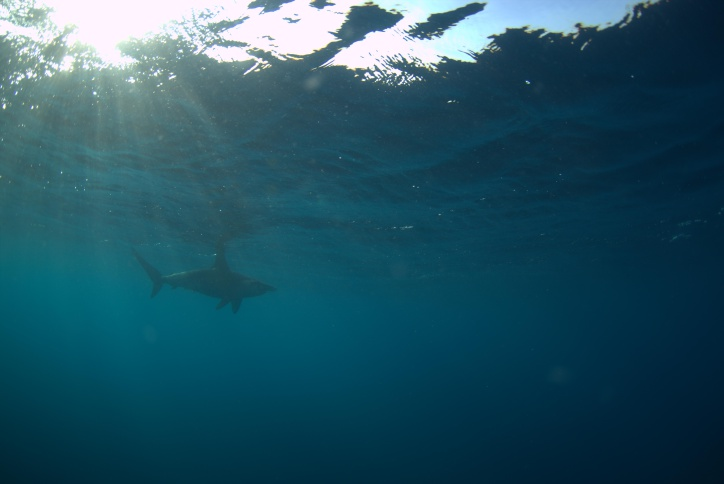Hammer: (1, 141, 435, 332), (132, 237, 303, 327)
